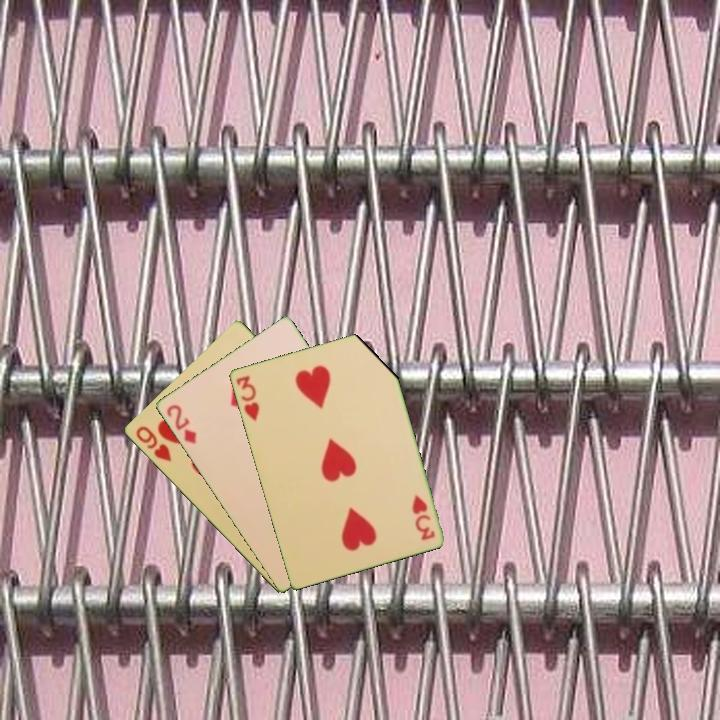2d: (162, 401, 199, 447)
3h: (232, 372, 262, 424), (408, 491, 438, 543)
9h: (132, 423, 174, 464)
